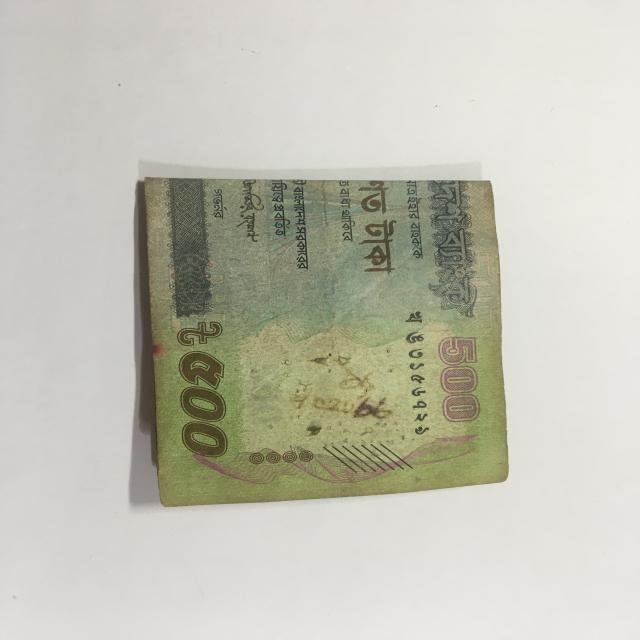Taka: (142, 167, 512, 512)
